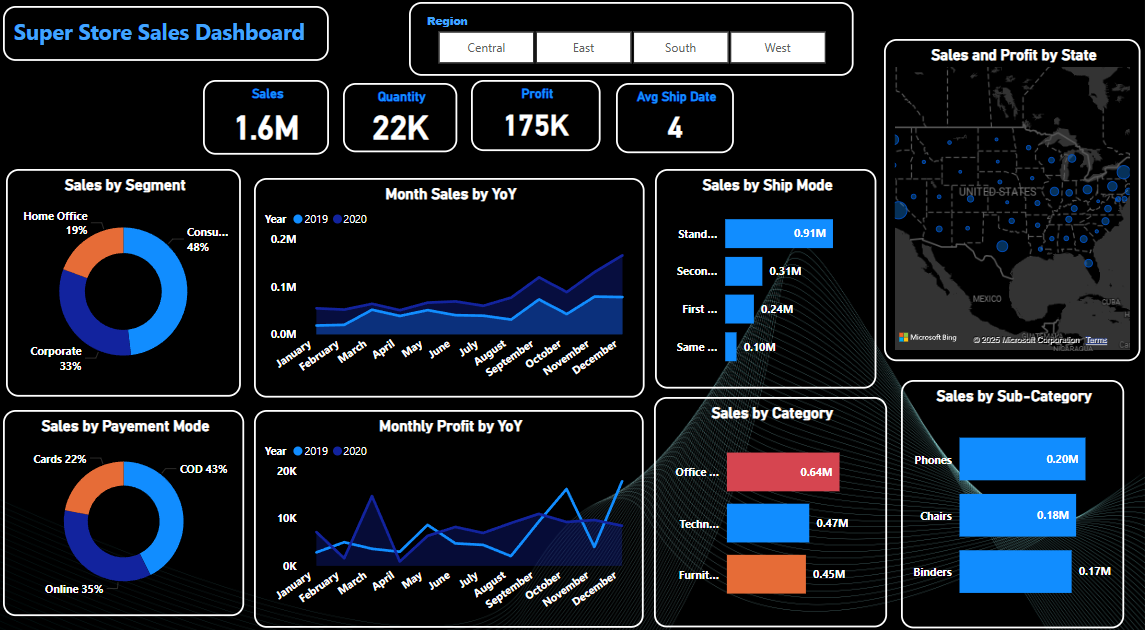

Layout of this report page (visuals, bound fields, positions):
{"tool":"powerbi","page":{"name":"Page 1","canvas":[1280,720],"ordinal":0},"visuals":[{"type":"barChart","title":"Sales by Sub-Category","fields":{"Category":["Sheet1.Sub-Category"],"Y":["Sum(Sheet1.Sales)"]},"box":[1008.8,425,247.5,276.2],"z":0},{"type":"barChart","title":"Sales by Ship Mode","fields":{"Category":["Sheet1.Ship Mode"],"Y":["Sum(Sheet1.Sales)"]},"box":[735,191.2,246.2,243.8],"z":1000},{"type":"areaChart","title":"Month Sales by YoY","fields":{"Y":["Sum(Sheet1.Sales)"],"Category":["Sheet1.Order Date.Variation.Date Hierarchy.Month","Sheet1.Order Date.Variation.Date Hierarchy.Day"],"Series":["Sheet1.Order Date.Variation.Date Hierarchy.Year"]},"box":[290,201.2,433.8,243.8],"z":2000},{"type":"areaChart","title":"Monthly Profit by YoY","fields":{"Category":["Sheet1.Order Date.Variation.Date Hierarchy.Month","Sheet1.Order Date.Variation.Date Hierarchy.Day"],"Series":["Sheet1.Order Date.Variation.Date Hierarchy.Year"],"Y":["Sum(Sheet1.Profit)"]},"box":[290,458.9,433.3,242.2],"z":3000},{"type":"map","title":"Sales and Profit by State","fields":{"Category":["Sheet1.State"],"Size":["Sum(Sheet1.Sales)"]},"box":[990,46.2,285,357.5],"z":4000},{"type":"barChart","title":"Sales by Category","fields":{"Y":["Sum(Sheet1.Sales)"],"Category":["Sheet1.Category"]},"box":[734.4,444.4,258.9,255.6],"z":5000},{"type":"donutChart","title":"Sales by Segment","fields":{"Category":["Sheet1.Segment"],"Y":["Sum(Sheet1.Sales)"]},"box":[15,191.3,260.7,253.2],"z":6000},{"type":"donutChart","title":"Sales by Payement Mode","fields":{"Y":["Sum(Sheet1.Sales)"],"Category":["Sheet1.Payment Mode"]},"box":[10.7,458.4,268.2,228.6],"z":7000},{"type":"slicer","fields":{"Values":["Sheet1.Region"]},"box":[462.4,5.3,493.5,82.4],"z":8000},{"type":"textbox","box":[11.1,10,362.2,61.1],"z":9000},{"type":"card","title":"Sales","fields":{"Values":["Sum(Sheet1.Sales)"]},"box":[233.3,92.2,140,83.3],"z":10000},{"type":"card","title":"Quantity","fields":{"Values":["Sum(Sheet1.Quantity)"]},"box":[389,96,127,77],"z":11000},{"type":"card","title":"Profit","fields":{"Values":["Sum(Sheet1.Profit)"]},"box":[531.2,92.5,143.8,78.8],"z":12000},{"type":"card","title":"Avg Ship Date","fields":{"Values":["Avg(Sheet1.AvgDelivery)"]},"box":[692.5,95,131.2,77.5],"z":13000}]}

Visuals, with their boxes in screenshot pixels (x1, y1, x2, y2), scaled from the page's 1280x720 canvas onto the 1145x630 screenshot:
"Sales by Sub-Category" barChart: bbox(902, 372, 1124, 614)
"Sales by Ship Mode" barChart: bbox(657, 167, 878, 381)
"Month Sales by YoY" areaChart: bbox(259, 176, 647, 389)
"Monthly Profit by YoY" areaChart: bbox(259, 402, 647, 613)
"Sales and Profit by State" map: bbox(886, 40, 1141, 353)
"Sales by Category" barChart: bbox(657, 389, 889, 612)
"Sales by Segment" donutChart: bbox(13, 167, 247, 389)
"Sales by Payement Mode" donutChart: bbox(10, 401, 249, 601)
slicer - Sheet1.Region: bbox(414, 5, 855, 77)
textbox: bbox(10, 9, 334, 62)
"Sales" card: bbox(209, 81, 334, 154)
"Quantity" card: bbox(348, 84, 462, 151)
"Profit" card: bbox(475, 81, 604, 150)
"Avg Ship Date" card: bbox(619, 83, 737, 151)
